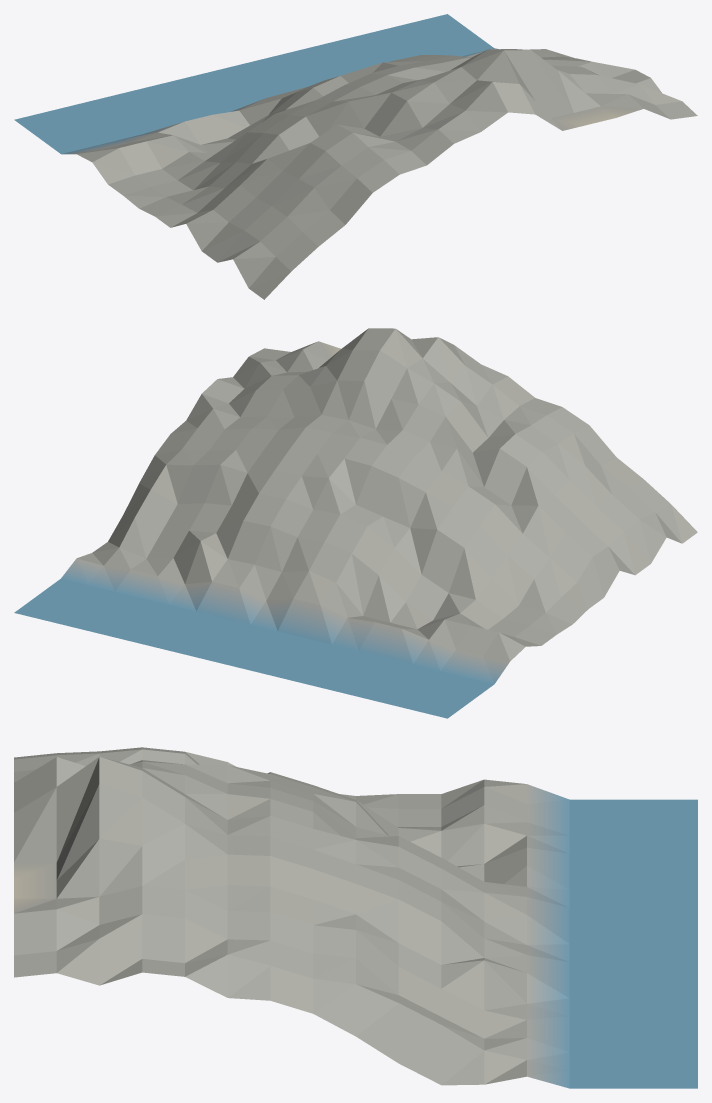
The picture shows the model from 3 angles, top to bottom: view 1: azimuth 30°, elevation 25°; view 2: azimuth 150°, elevation 25°; view 3: azimuth 270°, elevation 25°; orthographic projection. The views are drawn at different scales.
Size of the model in its own units: 32 by 11.54 by 32.
